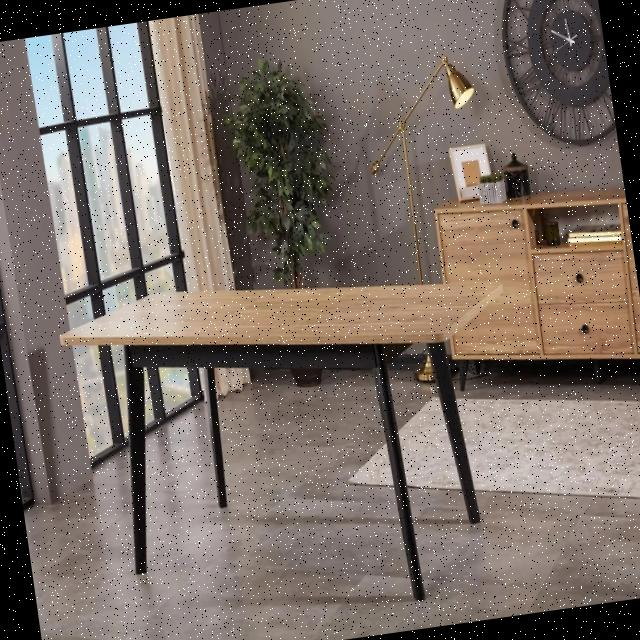Table: (39, 200, 567, 640)
